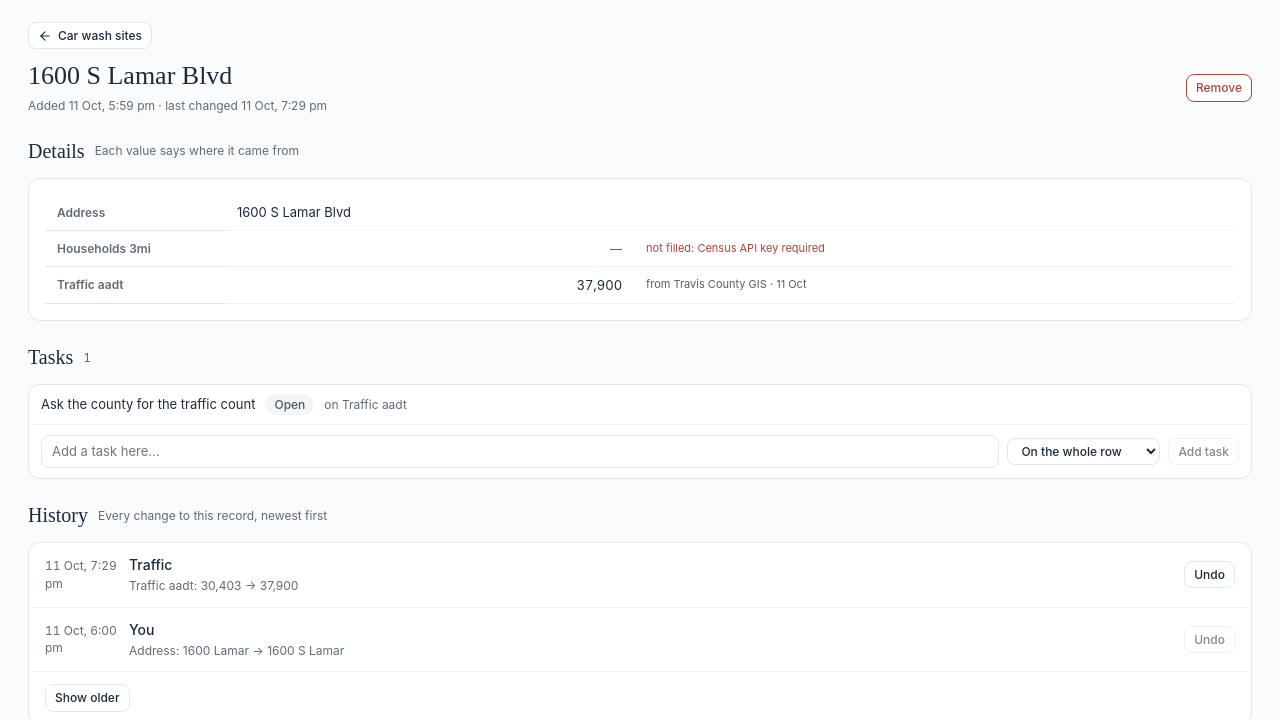
Test: a record's own page › shows its history newest first, who and what changed, with Show older to the record's start
Check: the text "Traffic aadt: 30,403 → 37,900" is shown, box [129,578,298,593]
Check: the text "You" is shown, box [129,621,154,638]
Click the button "Show older" at (87,698), box [45,684,130,712]
(page scrolled)
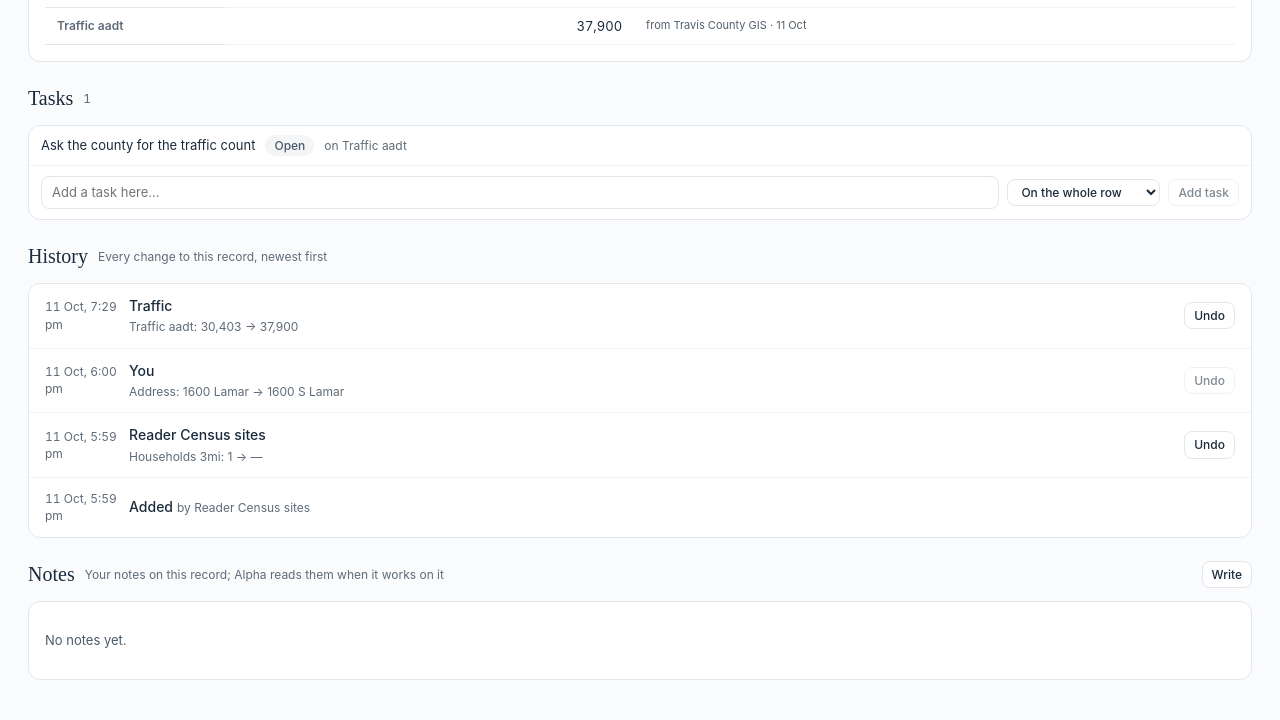
Check: the text "Reader Census sites" is shown, box [129,426,266,443]
Check: the text "Added" is shown, box [129,498,173,515]
Check: the button "Show older" is gone
